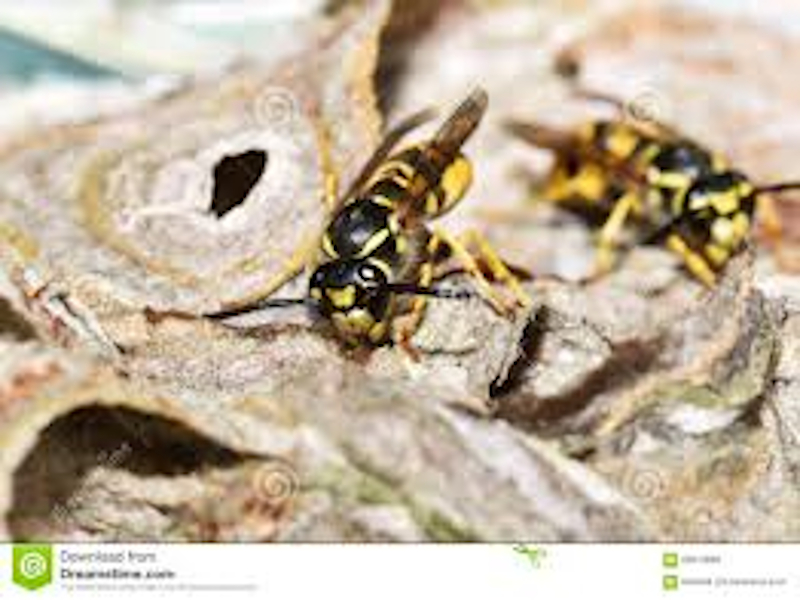chax: (213, 83, 523, 338), (499, 81, 791, 294)
